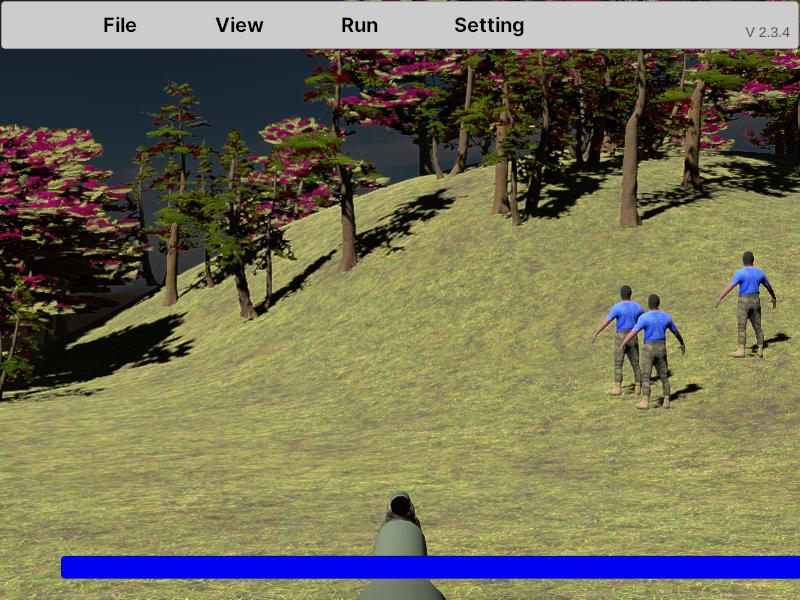Human: (621, 293, 685, 410), (592, 284, 656, 397), (716, 251, 776, 359)
